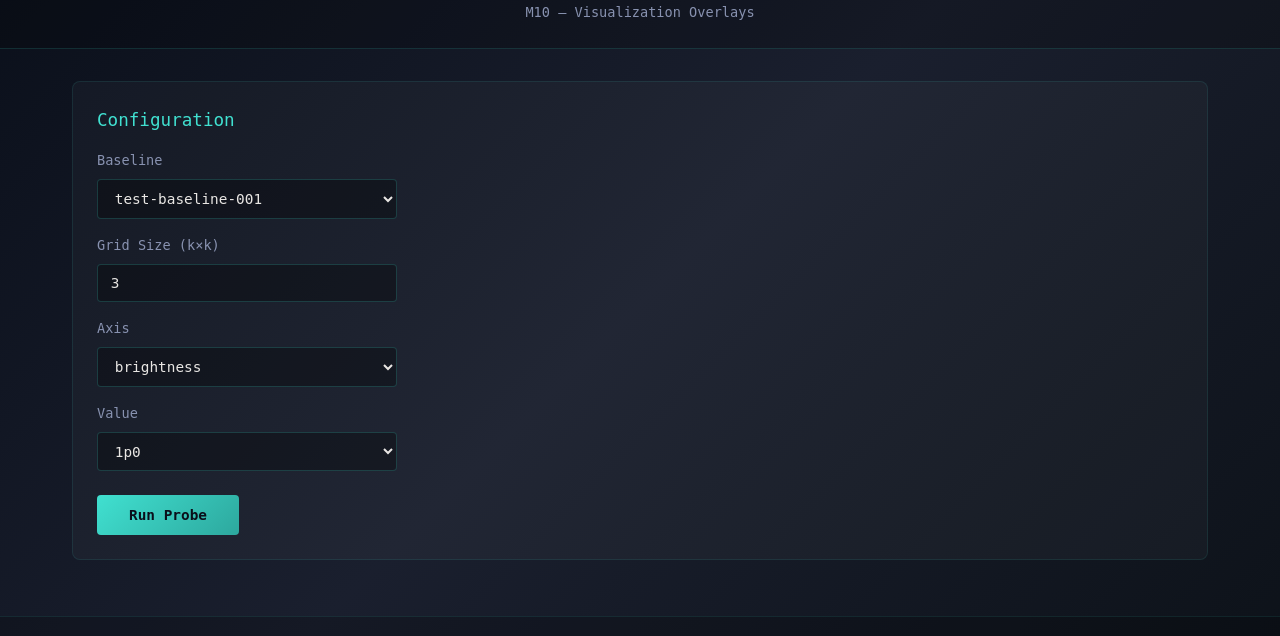
Test: M10 Overlay Visualization › Toggle Controls › renders heatmap toggle control after probe run
Note: Run probe
Click the button "Run Probe": {"x": 168, "y": 515} x1=97 y1=495 x2=239 y2=535
(page scrolled)
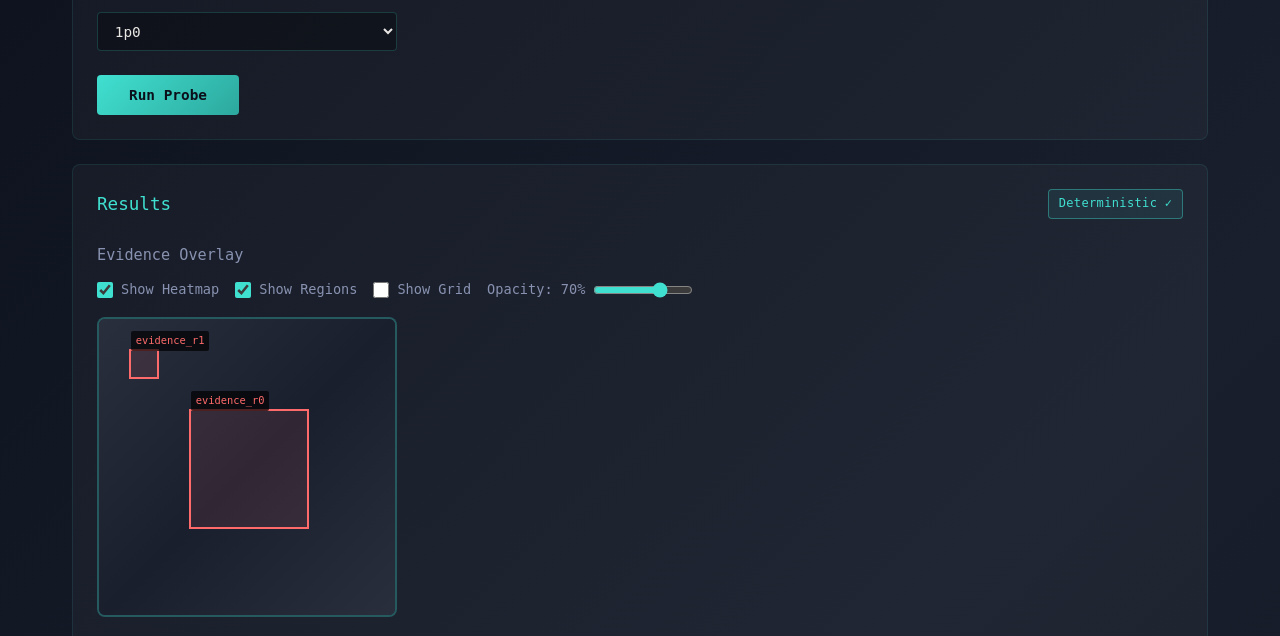
Expected: the heading "Evidence Overlay" is shown, x1=97 y1=246 x2=243 y2=264
Expected: the checkbox with test id "toggle-heatmap" is shown, x1=97 y1=282 x2=113 y2=298
